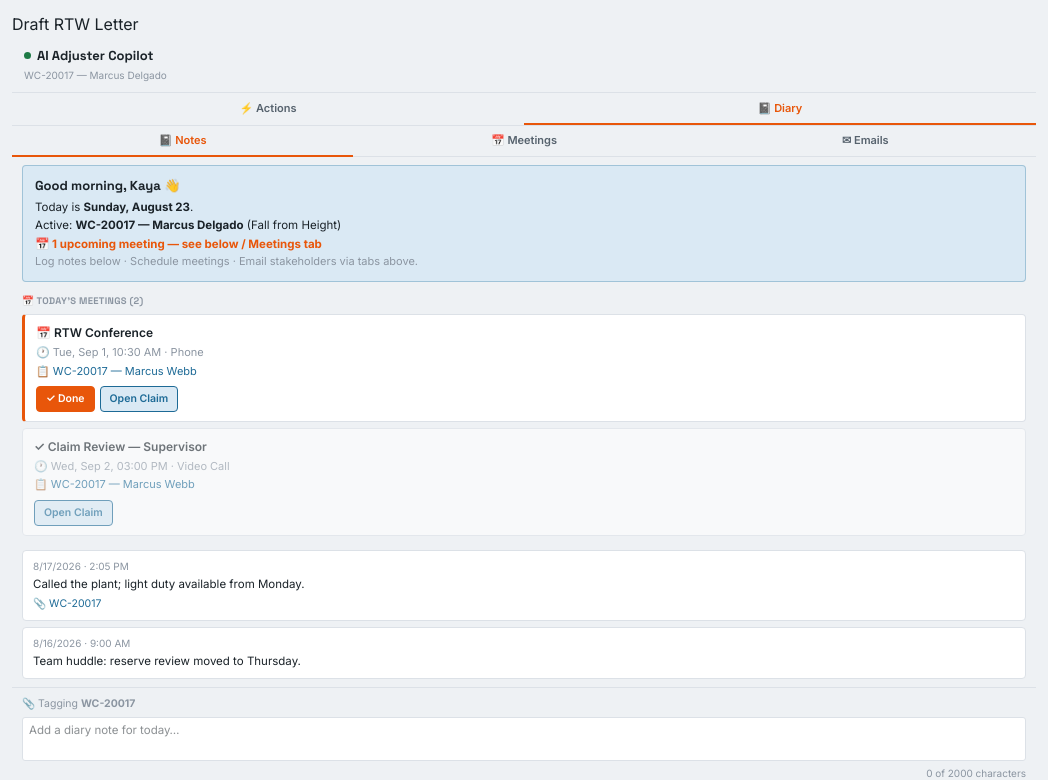
Test: the Actions tab is enabled and mounts the copilot when selected
Click the tab with test id "copilot-tab-actions": x=268, y=109 [12,92,524,125]
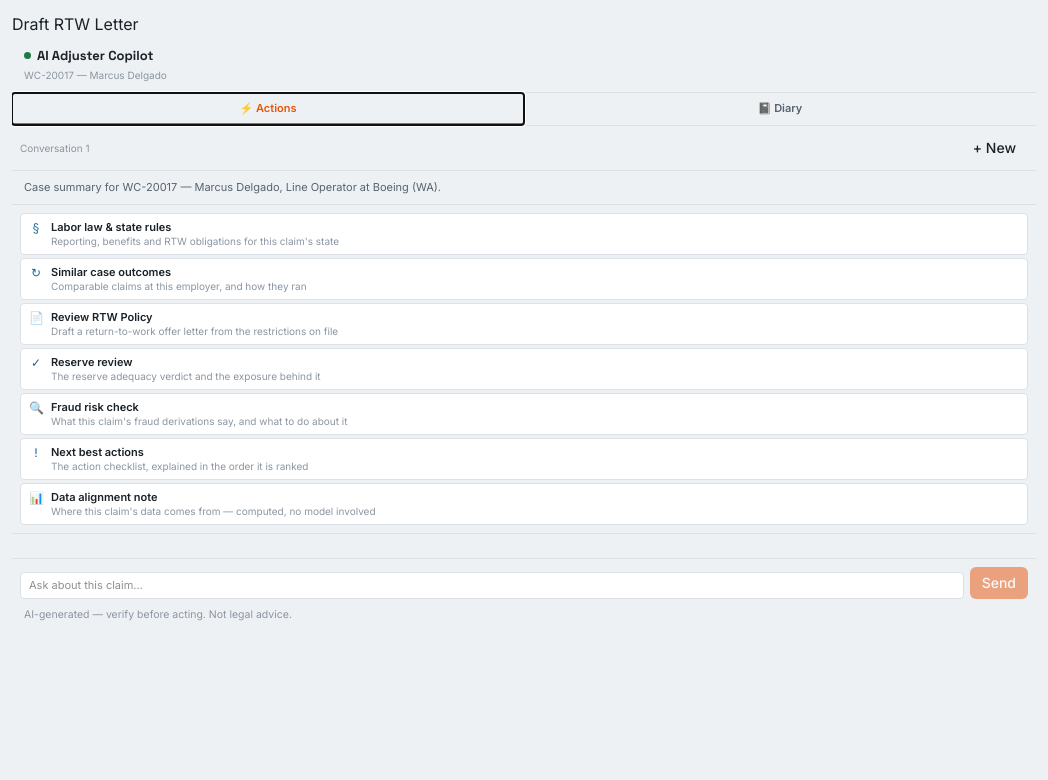
Expected: the element with test id "copilot-actions" is shown
